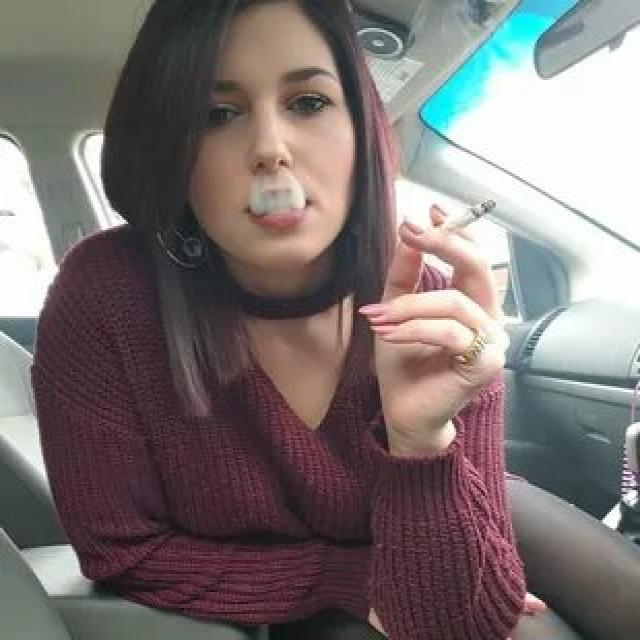smoke: (423, 200, 502, 242)
